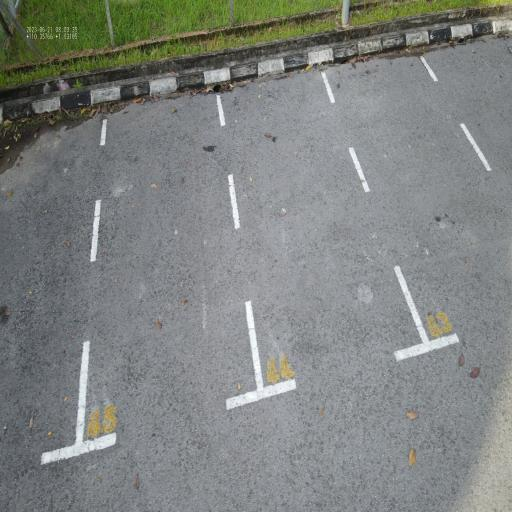Empty: (72, 71, 269, 464), (216, 64, 440, 406)
